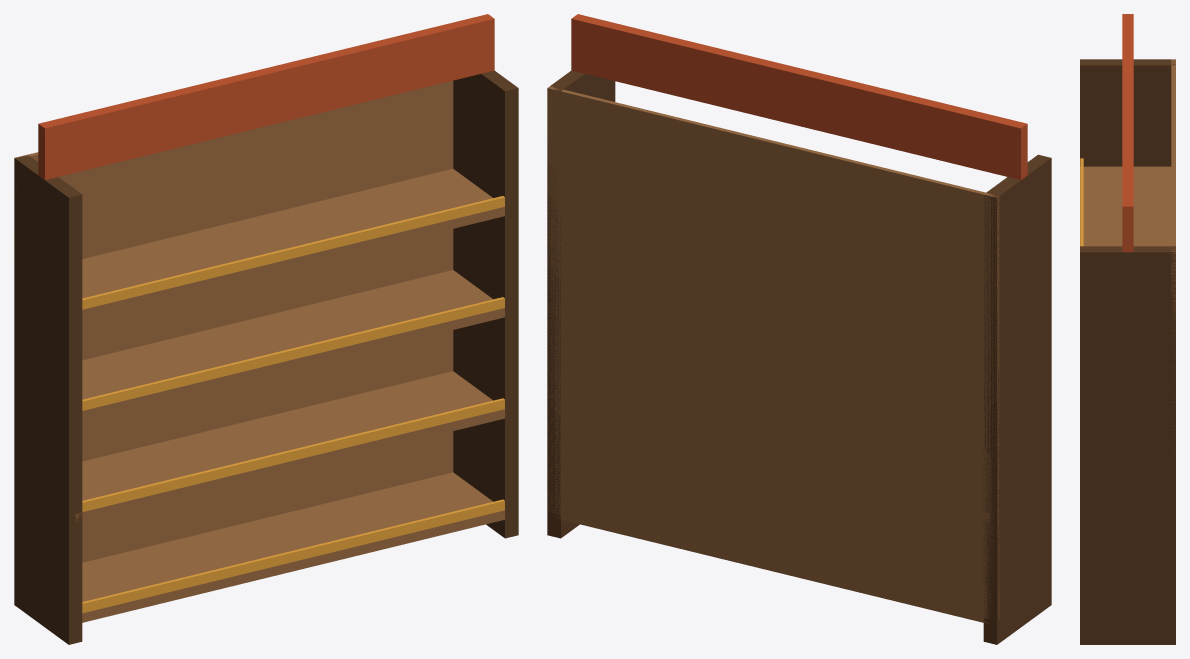
The model's file is shelf.glb.
3 renders of one model, left to right at view 1: azimuth 30°, elevation 25°; view 2: azimuth 150°, elevation 25°; view 3: azimuth 270°, elevation 25°, orthographic. The views are drawn at different scales.
Visible parts, largest first — view 1: Back, Upright, Header, Upright.001, Shelf1, Shelf2, Shelf3, Shelf0, Lip3, Lip0, Lip2, Lip1; view 2: Back, Upright, Header, Upright.001, Shelf1, Shelf0; view 3: Upright.001, Upright, Shelf3, Header, Back, Lip3.
Part boxes in pixels (box(x1,y1,x2,y2)): Back: box(14, 80, 453, 562); Upright: box(14, 154, 82, 644); Header: box(38, 14, 494, 179); Upright.001: box(453, 70, 518, 538); Shelf1: box(75, 371, 506, 521); Shelf2: box(82, 270, 504, 420); Shelf3: box(82, 169, 504, 319); Shelf0: box(82, 472, 505, 622); Lip3: box(82, 196, 504, 309); Lip0: box(82, 499, 504, 613); Lip2: box(82, 297, 504, 410); Lip1: box(82, 398, 504, 511); Back: box(547, 86, 999, 619); Upright: box(983, 154, 1051, 644); Header: box(571, 14, 1027, 179); Upright.001: box(547, 70, 615, 538); Shelf1: box(554, 408, 990, 522); Shelf0: box(554, 515, 988, 623); Upright.001: box(1080, 246, 1175, 644); Upright: box(1080, 59, 1175, 166); Shelf3: box(1080, 166, 1171, 246); Header: box(1122, 14, 1133, 252); Back: box(1171, 59, 1175, 453); Lip3: box(1080, 158, 1083, 246).
Size of the model in its own units: 2 by 2.12 by 0.42.
